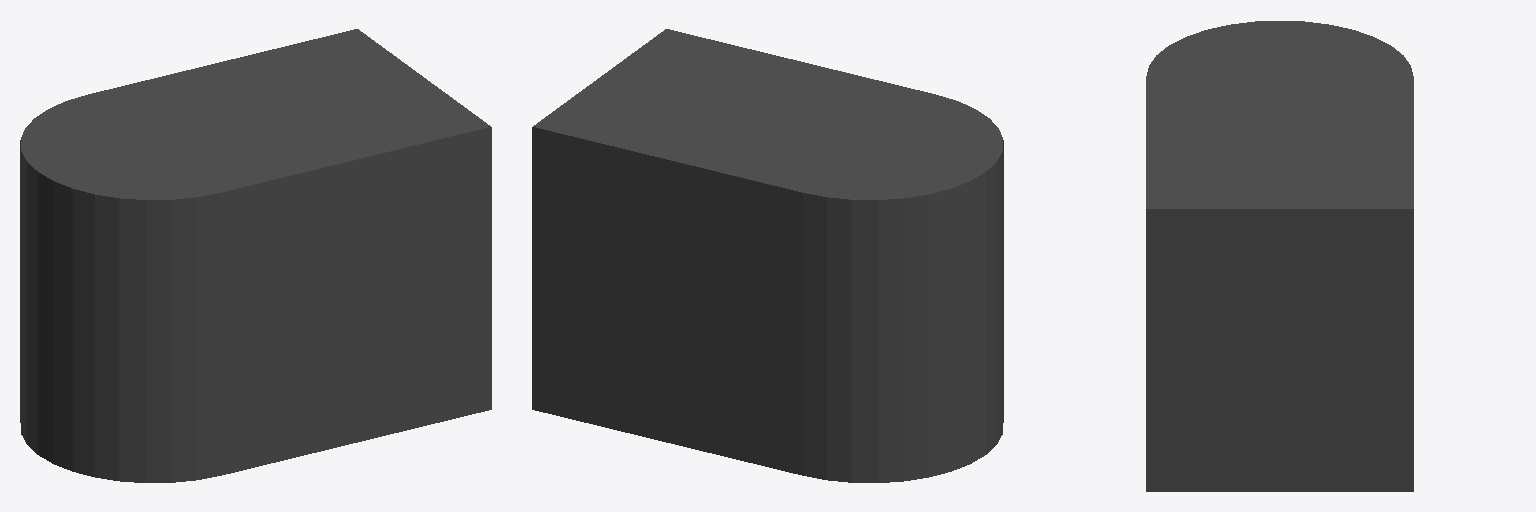
robot.urdf — robot:
<?xml version="0.0" ?>
<robot name="robot">
  <link name="base_link">
    <inertial>
      <origin rpy="0 0 0" xyz="0 0 0"/>
      <mass value="0.1"/>
      <inertia ixx="0" ixy="0" ixz="0" iyy="0" iyz="0" izz="0"/>
    </inertial>
    <visual>
      <origin rpy="0 0 0" xyz="0.0215 0 0.035"/>
      <geometry>
        <box size="0.07 0.06 0.07" />
      </geometry>
      <material name="gray">
        <color rgba="0.3529 0.3529 0.3529 1"/>
      </material>
    </visual>
    <collision>
      <origin rpy="0 0 0" xyz="0.0215 0 0.035"/>
      <geometry>
        <box size="0.07 0.06 0.07" />
      </geometry>
    </collision>
  </link>
  <link name="backpack">
    <inertial>
      <origin rpy="0 0 0" xyz="0 0 0"/>
      <mass value="0"/>
      <inertia ixx="1" ixy="0" ixz="0" iyy="1" iyz="0" izz="1"/>
    </inertial>
    <visual>
      <origin rpy="0 0 0" xyz="-0.0135 0 0.035"/>
      <geometry>
        <cylinder length="0.07" radius="0.03"/>
      </geometry>
      <material name="gray">
        <color rgba="0.3529 0.3529 0.3529 1"/>
      </material>
    </visual>
    <collision>
      <origin rpy="0 0 0" xyz="-0.0135 0 0.035"/>
      <geometry>
        <cylinder length="0.07" radius="0.03"/>
      </geometry>
    </collision>
  </link>
  <joint name="base_link_to_backpack" type="fixed">
    <parent link="base_link"/>
    <child link="backpack"/>
    <origin xyz="0 0 0"/>
  </joint>
</robot>

--- What the picture shows (computed from the rendered views, not written in the file) ---
Views: 3 orthographic renders of the robot side by side, from view 1: azimuth 30°, elevation 25°; view 2: azimuth 150°, elevation 25°; view 3: azimuth 270°, elevation 25°.
Robot: robot — 2 links, 1 joints (1 fixed); root link base_link; default pose: every joint at zero.
Links seen in each view (by area): view 1: base_link, backpack; view 2: base_link, backpack; view 3: base_link, backpack.
Link boxes in pixels (x1,y1,x2,y2): base_link: (88,29,491,475); backpack: (20,87,287,482); base_link: (532,29,934,475); backpack: (736,87,1003,482); base_link: (1146,77,1413,491); backpack: (1146,21,1413,132).
Bounding box of the posed robot: 0.1 × 0.06 × 0.07 m (x, y, z).
Geometry: primitives only (box / cylinder / sphere), no mesh files.